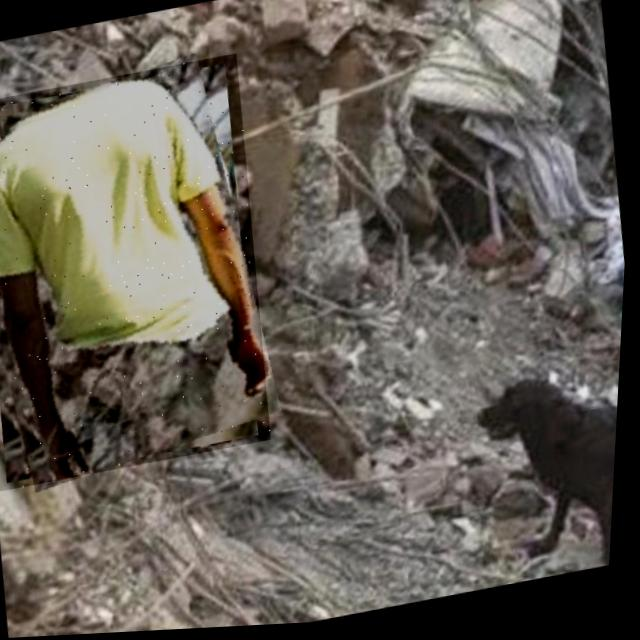Person in Rubble: (0, 53, 291, 493)
